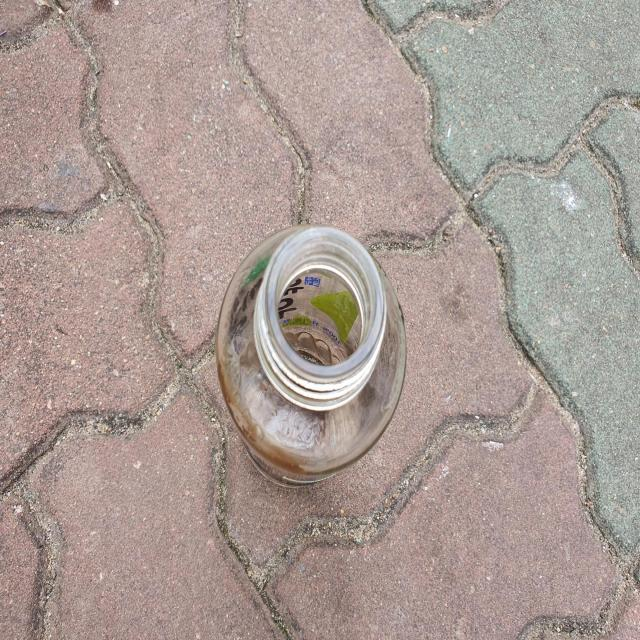glass: (216, 225, 406, 486)
